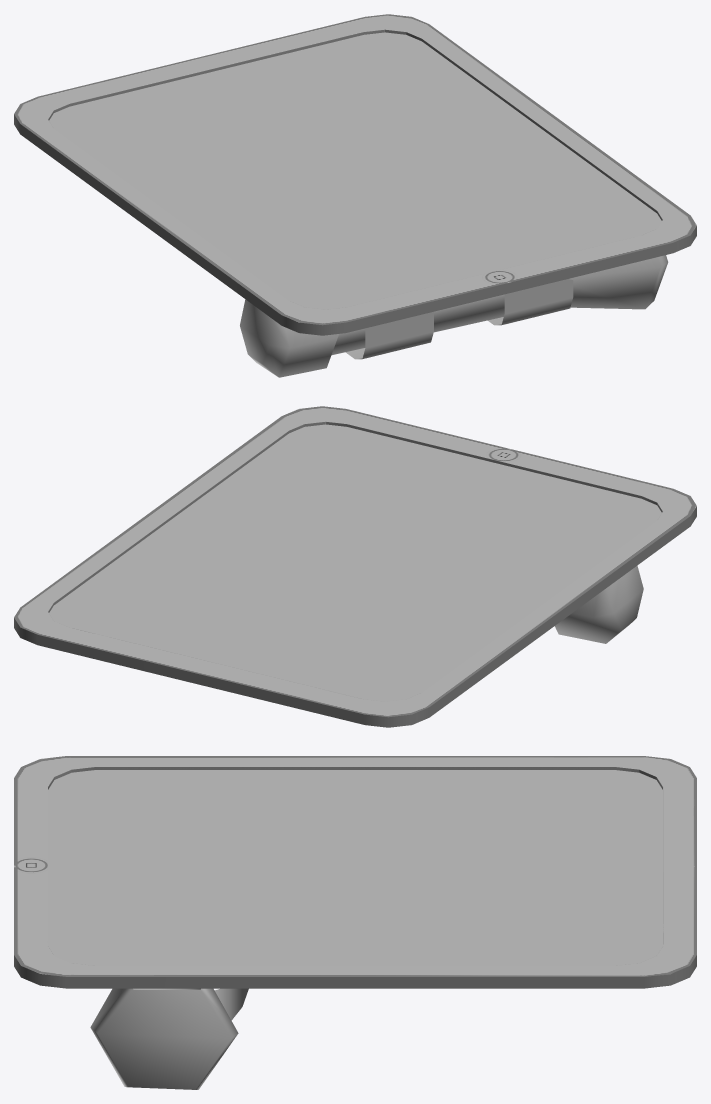
The model's file is Ipad_fix.fbx.
3 renders of one model, top to bottom at view 1: azimuth 30°, elevation 25°; view 2: azimuth 150°, elevation 25°; view 3: azimuth 270°, elevation 25°, orthographic. The views are drawn at different scales.
Parts seen in each view (by area): view 1: pCube75, pCylinder1, pPlane5, pPlane6; view 2: pCube75, pCylinder1; view 3: pCube75, pCylinder1, pPlane6.
Boxes of the visible parts, x1,y1,x2,y2 form: pCube75: [14, 14, 696, 335]; pCylinder1: [240, 255, 668, 377]; pPlane5: [345, 311, 433, 359]; pPlane6: [488, 279, 573, 325]; pCube75: [14, 406, 696, 727]; pCylinder1: [555, 565, 643, 643]; pCube75: [14, 756, 696, 988]; pCylinder1: [90, 988, 238, 1089]; pPlane6: [214, 988, 248, 1020].
Bounding box in the file's own units: 0.4637 × 0.1206 × 0.6059.
Materials: 3 (1 with a texture image).
